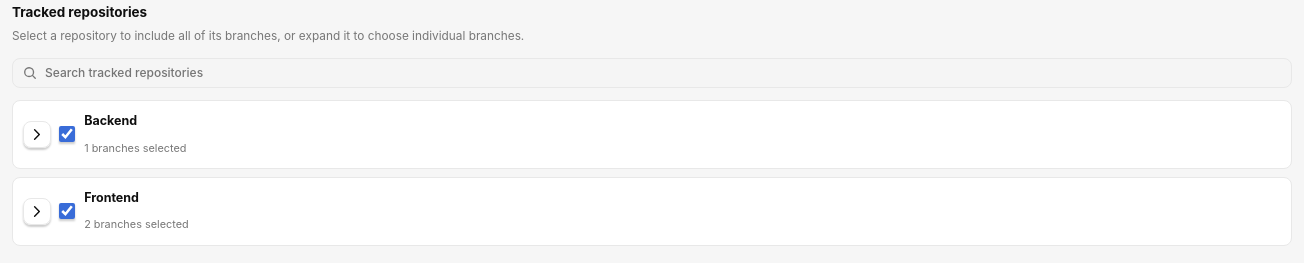
Scenario: RepositoryScopeSelector › filters by display name and alias without matching branch names
This screenshot has width=1304, height=263.
Step 1. Type "FRONT" into the field labelled "Search tracked repositories" → (652, 73), box [13,59,1291,87]
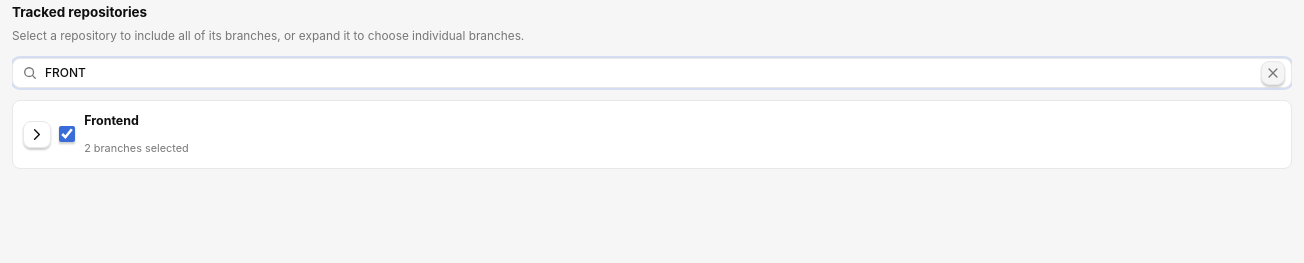
Expected: the text "Frontend" is shown, [84,113,139,128]
Expected: the text "Backend" is gone
Step 2. Replace the text in the field named "Search tracked repositories" with "alpha repository" → (652, 73), box [13,59,1291,87]
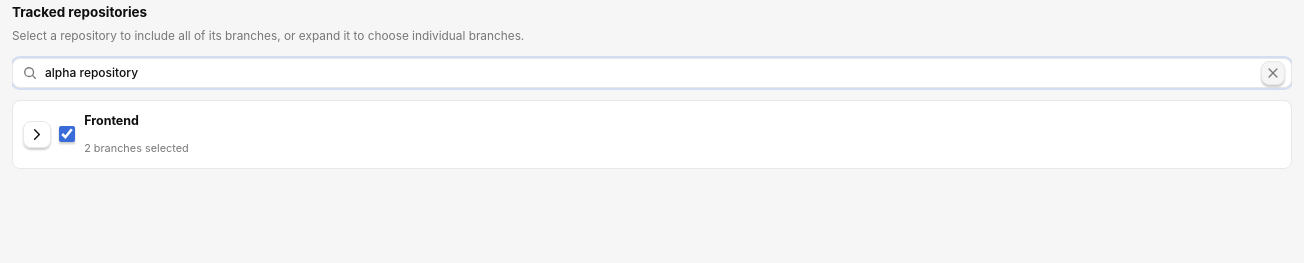
Expected: the text "Frontend" is shown, [84,113,139,128]
Expected: the text "Backend" is not shown
Step 3. Replace the text in the field named "Search tracked repositories" with "alpha-search" → (652, 73), box [13,59,1291,87]
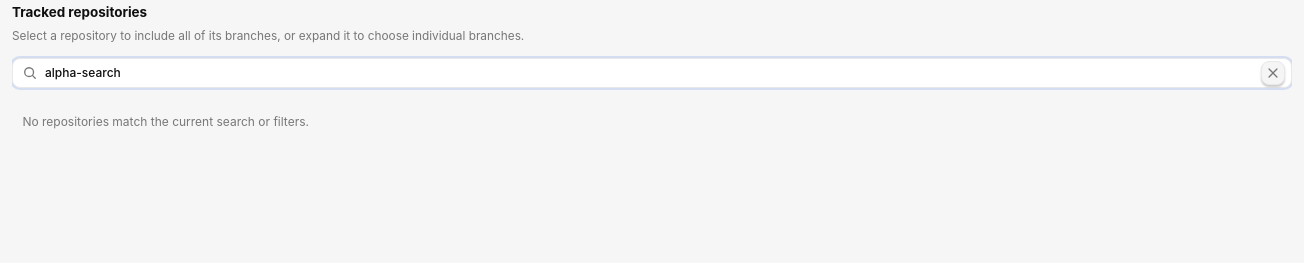
Expected: the text "Frontend" is not shown
Expected: the text "Backend" is gone
